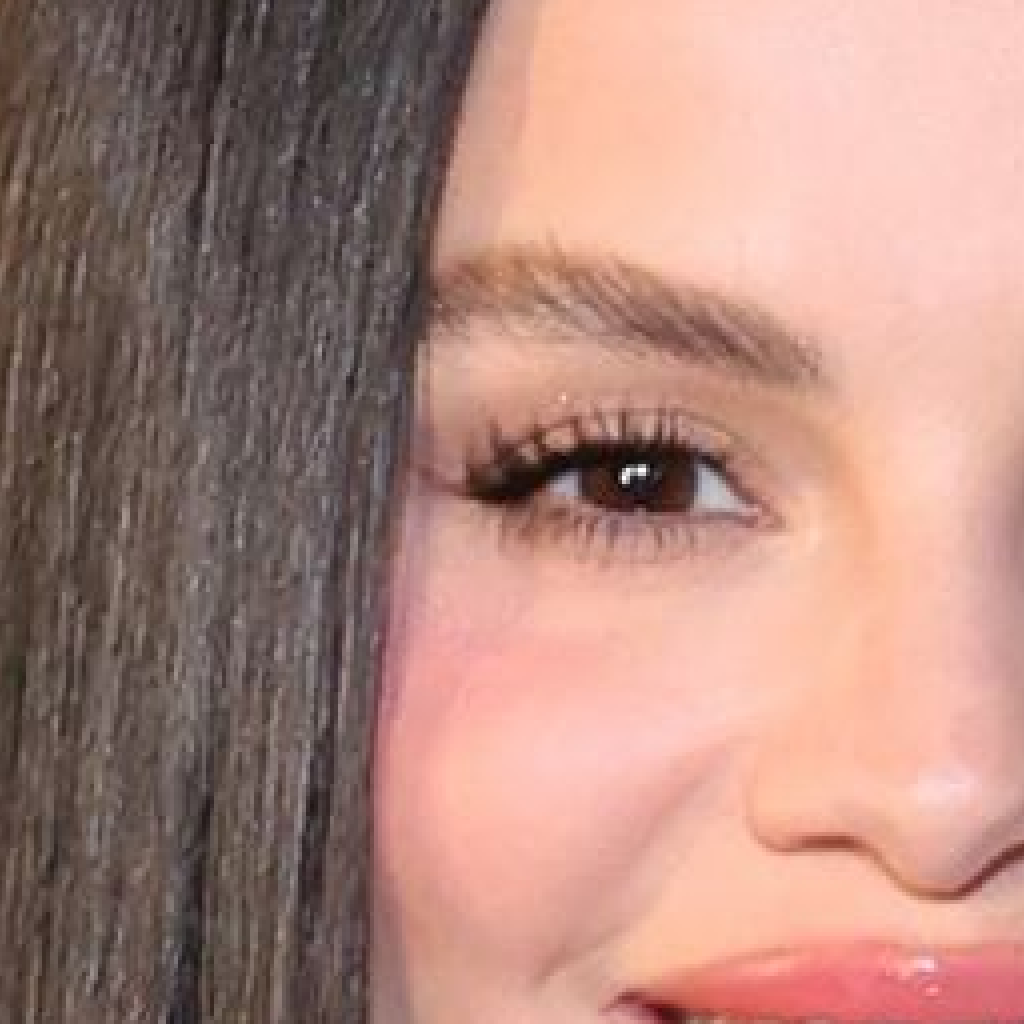iris: (579, 456, 699, 514), (697, 464, 769, 524), (541, 467, 577, 497)
pupil: (617, 460, 662, 491)
